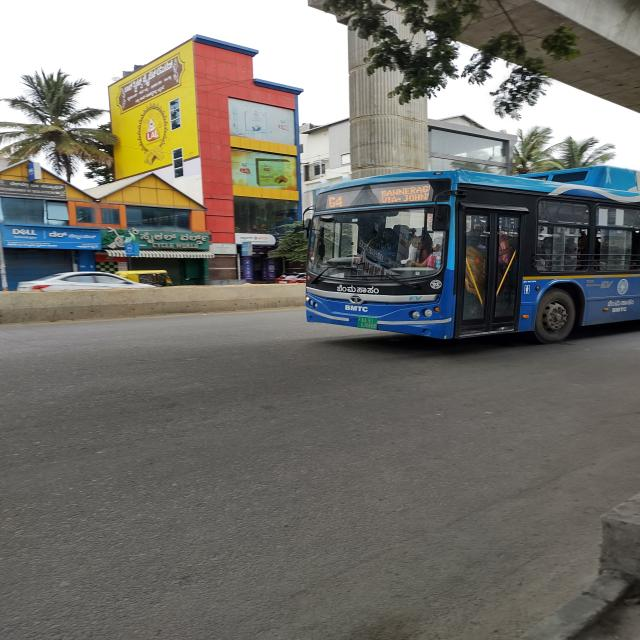bus: (291, 160, 640, 370)
display: (327, 187, 437, 209)
dnumber: (328, 195, 343, 207)
